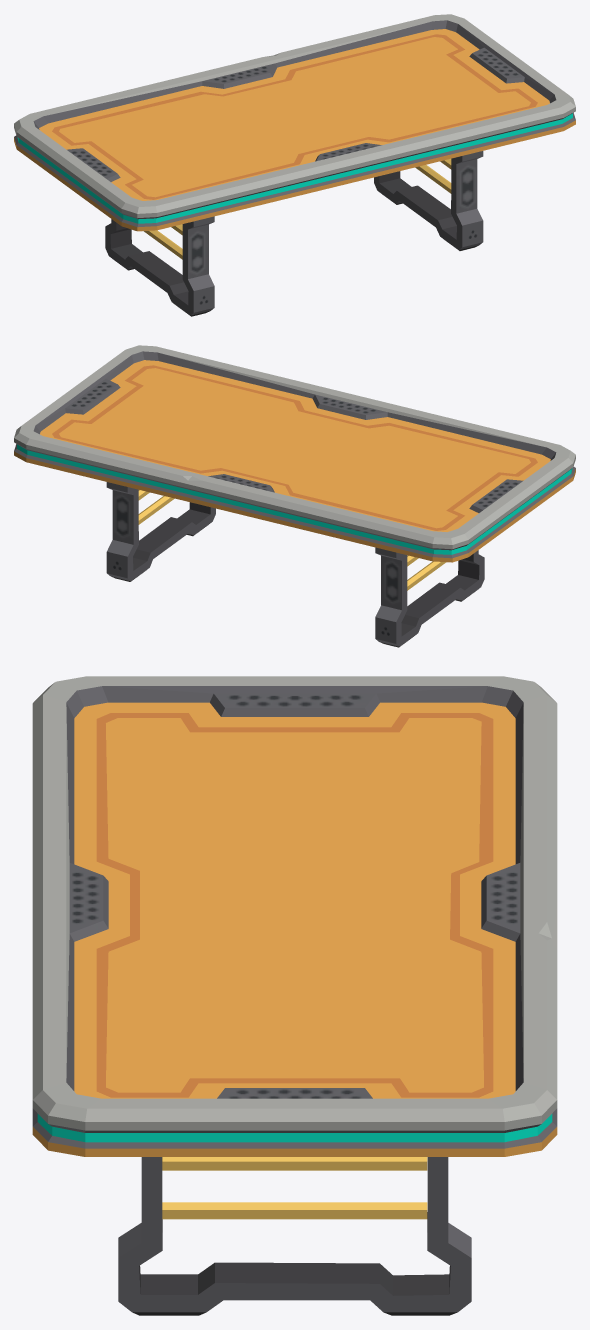
File: worlds_SM_Prop_Table_Large_01.gltf
3 views of the same model, one above another, from view 1: azimuth 30°, elevation 25°; view 2: azimuth 150°, elevation 25°; view 3: azimuth 270°, elevation 25° (orthographic). The views are drawn at different scales.
Parts seen in each view (by area): view 1: SM_Prop_Table_Large_01; view 2: SM_Prop_Table_Large_01; view 3: SM_Prop_Table_Large_01.
Part boxes in pixels (bbox=[...]): SM_Prop_Table_Large_01: bbox=[14, 14, 575, 316]; SM_Prop_Table_Large_01: bbox=[14, 345, 575, 647]; SM_Prop_Table_Large_01: bbox=[32, 676, 557, 1315].
Size of the model in its own units: 2.91 by 0.8799 by 1.46.
1 material, 1 textured.
